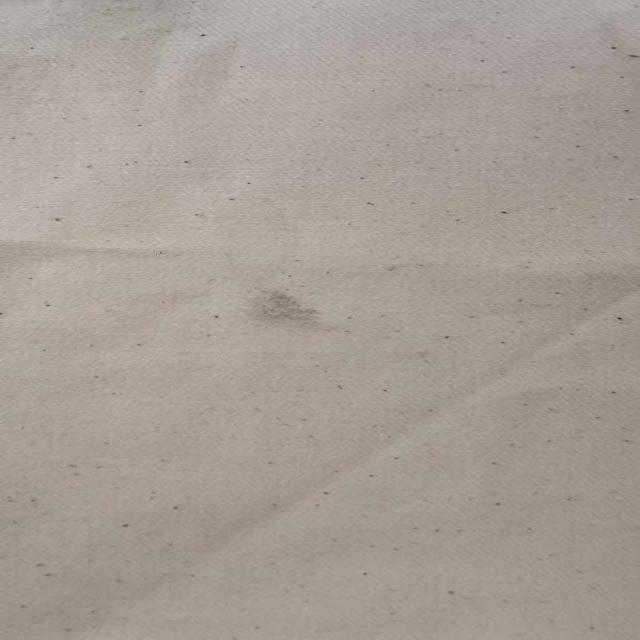taaaches: (225, 277, 352, 338)
